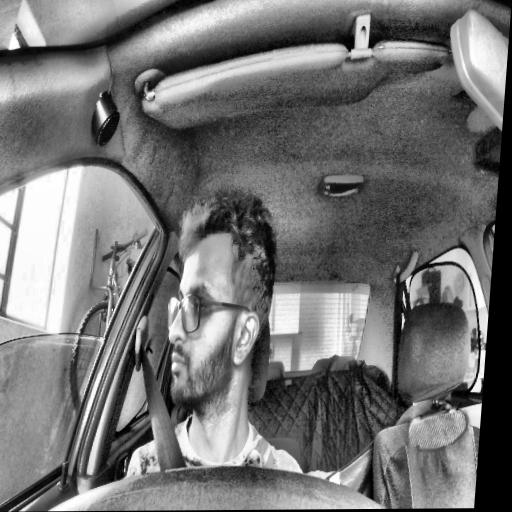awake: (159, 191, 282, 407)
